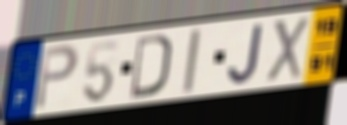5: (82, 37, 122, 104)
D: (129, 32, 173, 101)
I: (181, 26, 203, 96)
J: (226, 22, 265, 86)
P: (33, 42, 81, 113)
X: (265, 15, 310, 84)
